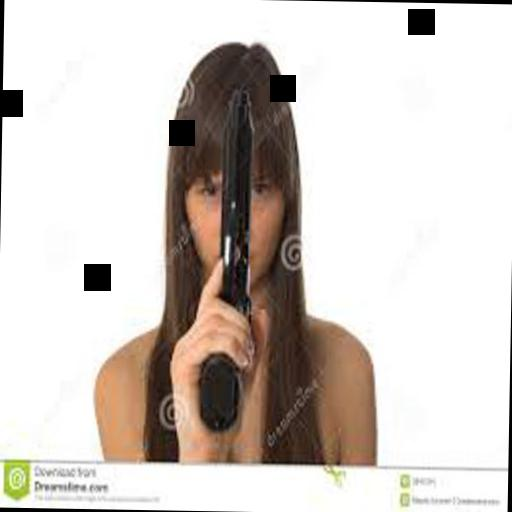Handgun: (171, 78, 269, 440)
